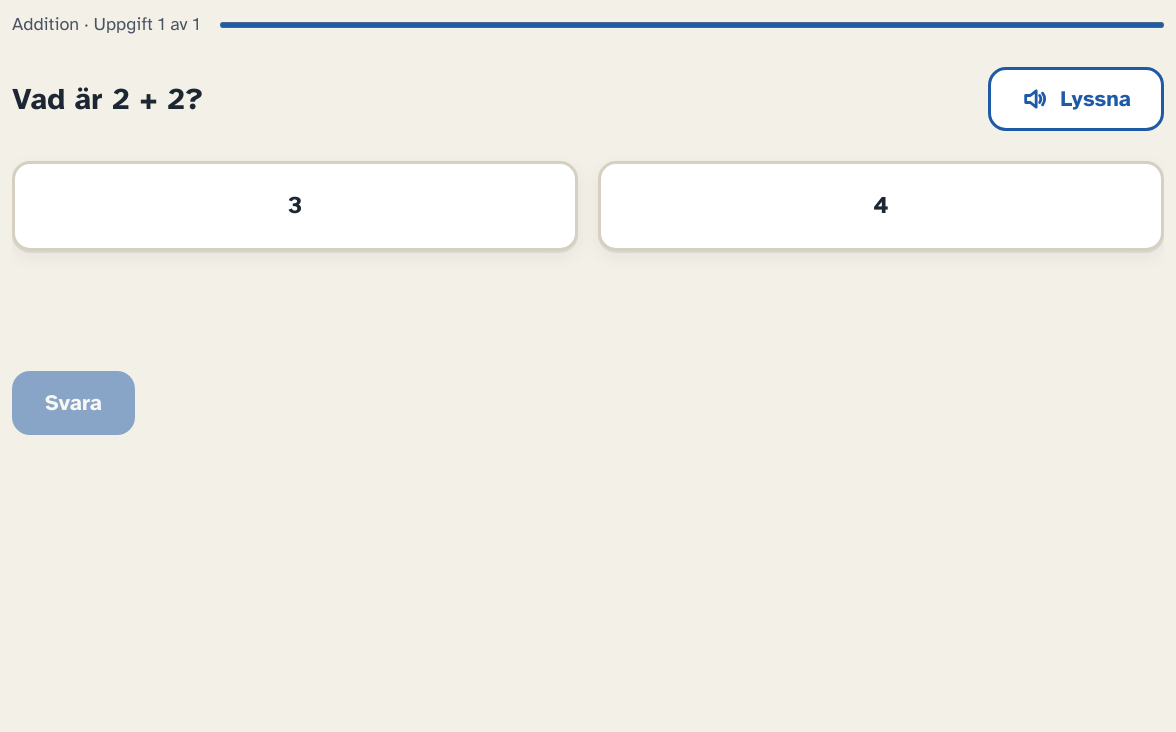
RunPlayer UX › step by step: only the answer first; skip and hint come after a try
Click the button "3" at (295, 206), box [12,161,578,251]
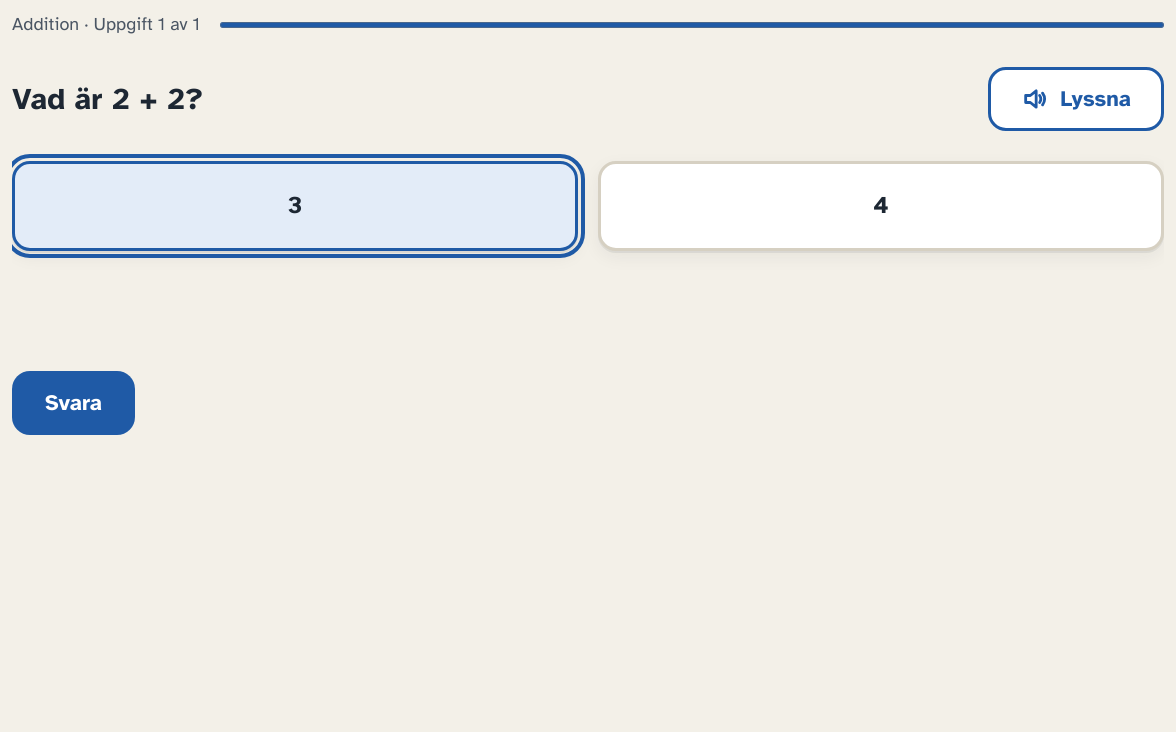
expect the button "Hoppa över" is not shown: met
Click the button "Svara" at (74, 403), box [12,371,135,435]
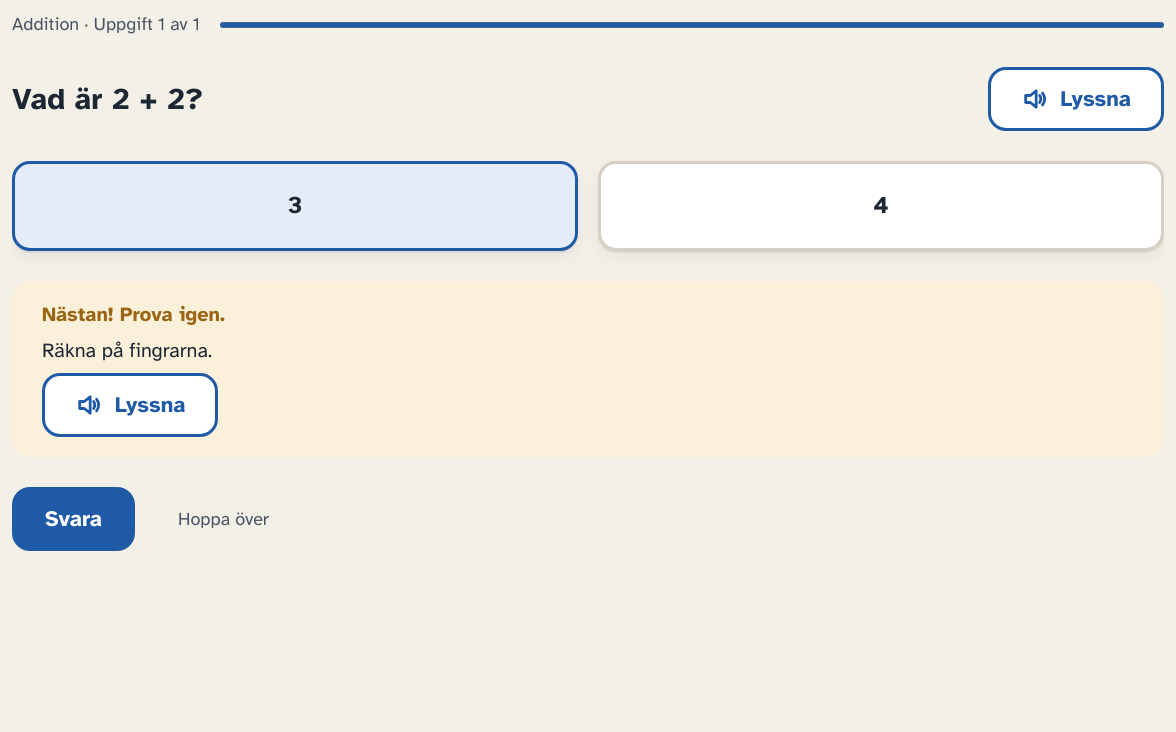
expect the button "Hoppa över" is shown: met, box [145,489,302,549]
